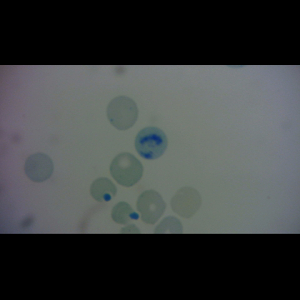aggregate reticulocyte: (133, 126, 169, 161)
erythrocyte: (109, 151, 144, 188), (169, 185, 204, 220), (135, 188, 167, 226), (23, 151, 55, 184), (110, 200, 141, 226), (89, 176, 118, 203)
punctate reticulocyte: (106, 96, 139, 132)
